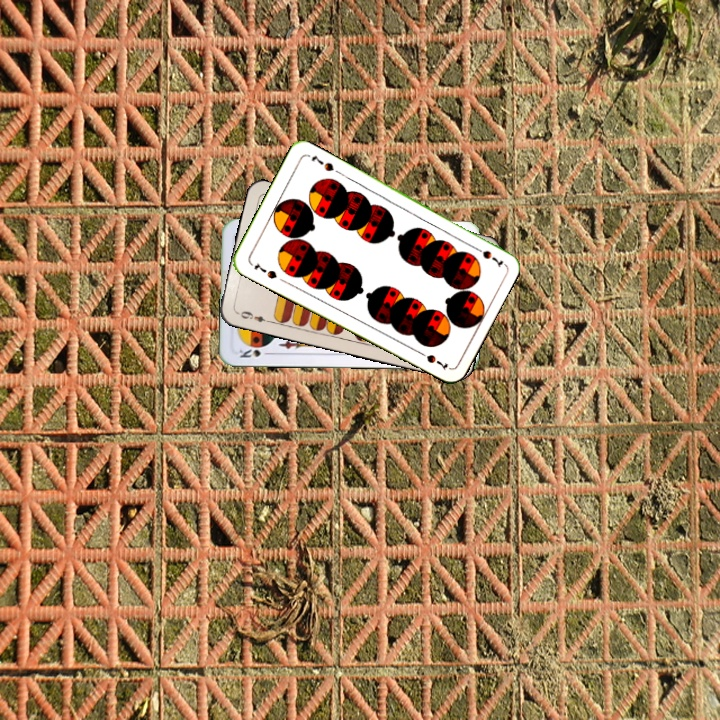E9: (233, 307, 273, 325)
S7: (468, 242, 506, 269), (250, 259, 279, 281)
SK: (235, 344, 274, 360)
